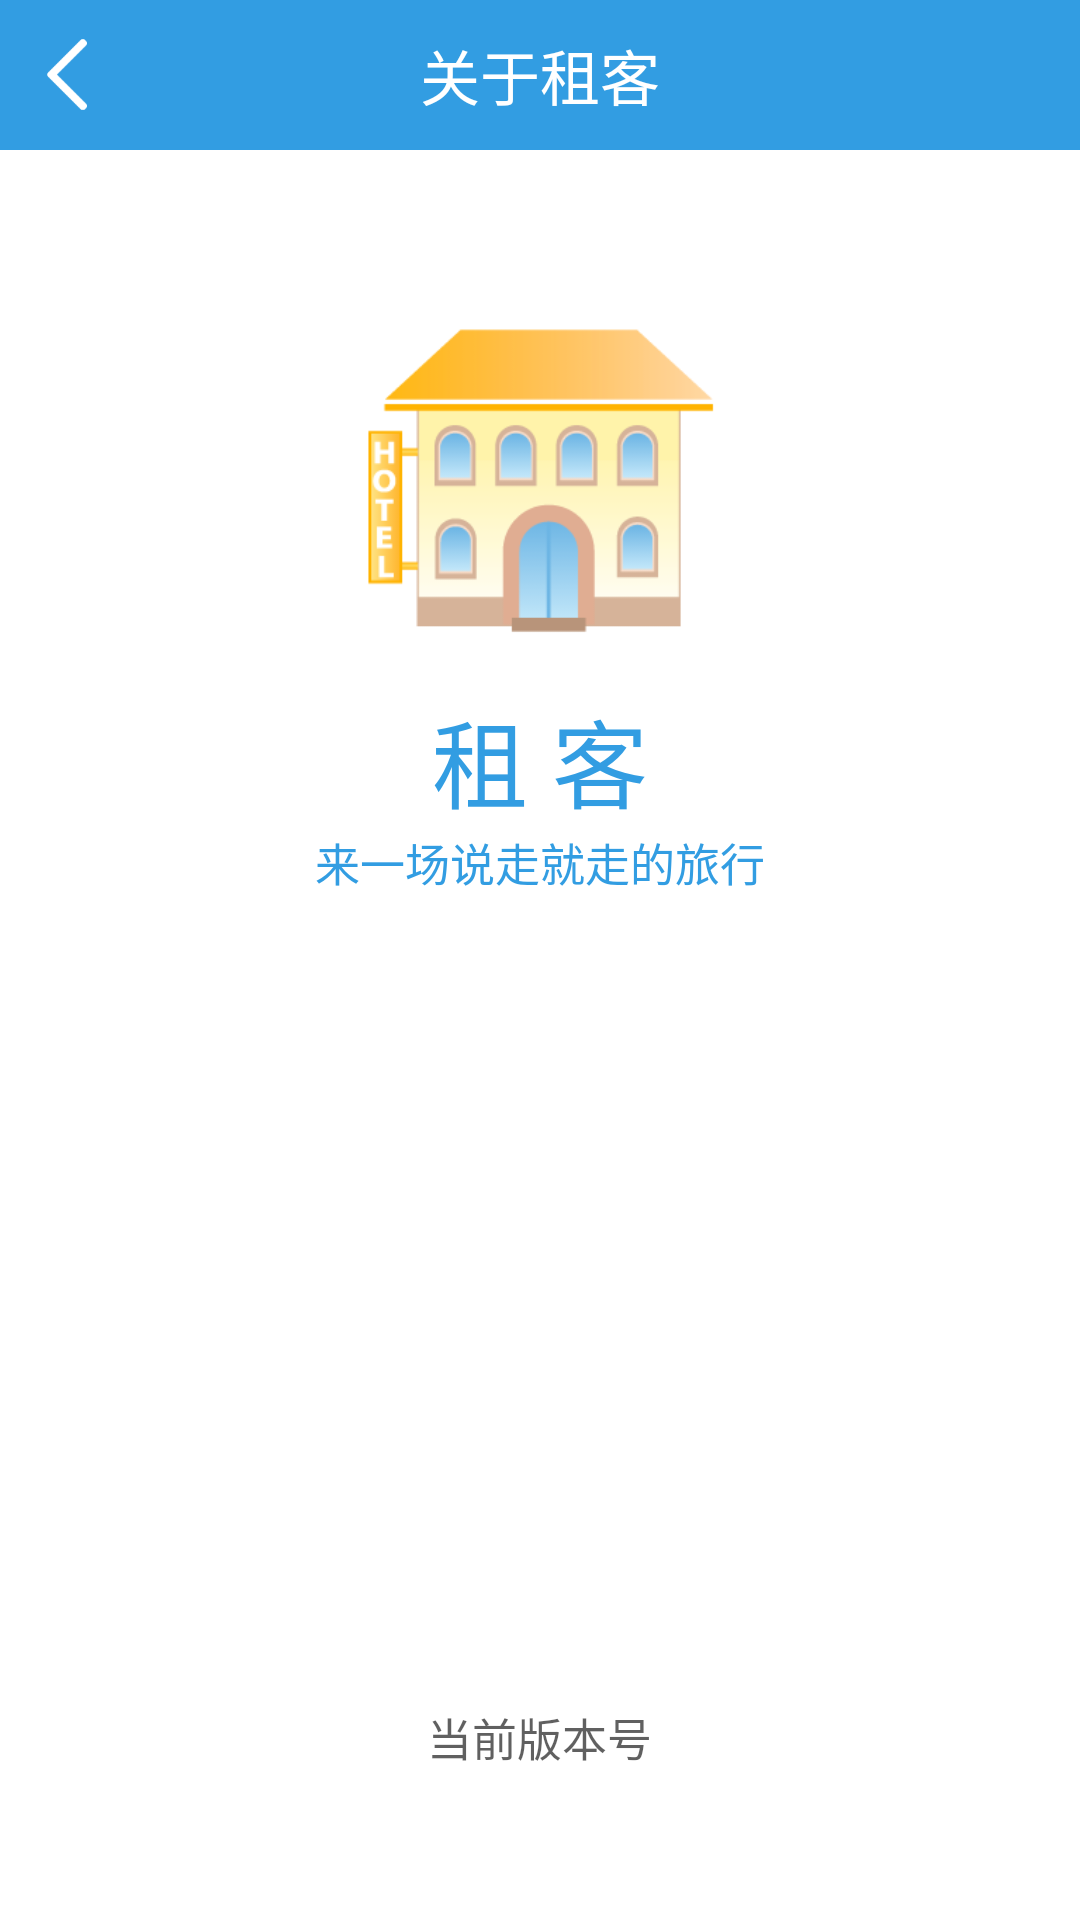

Point at icon controls on the screen. Image size 1080 x 1920, points as (x,y).
left: (67,74)
